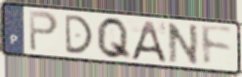A: (129, 19, 169, 64)
D: (63, 14, 95, 55)
F: (199, 23, 235, 68)
N: (166, 22, 200, 67)
P: (28, 9, 61, 54)
Q: (95, 16, 133, 62)
